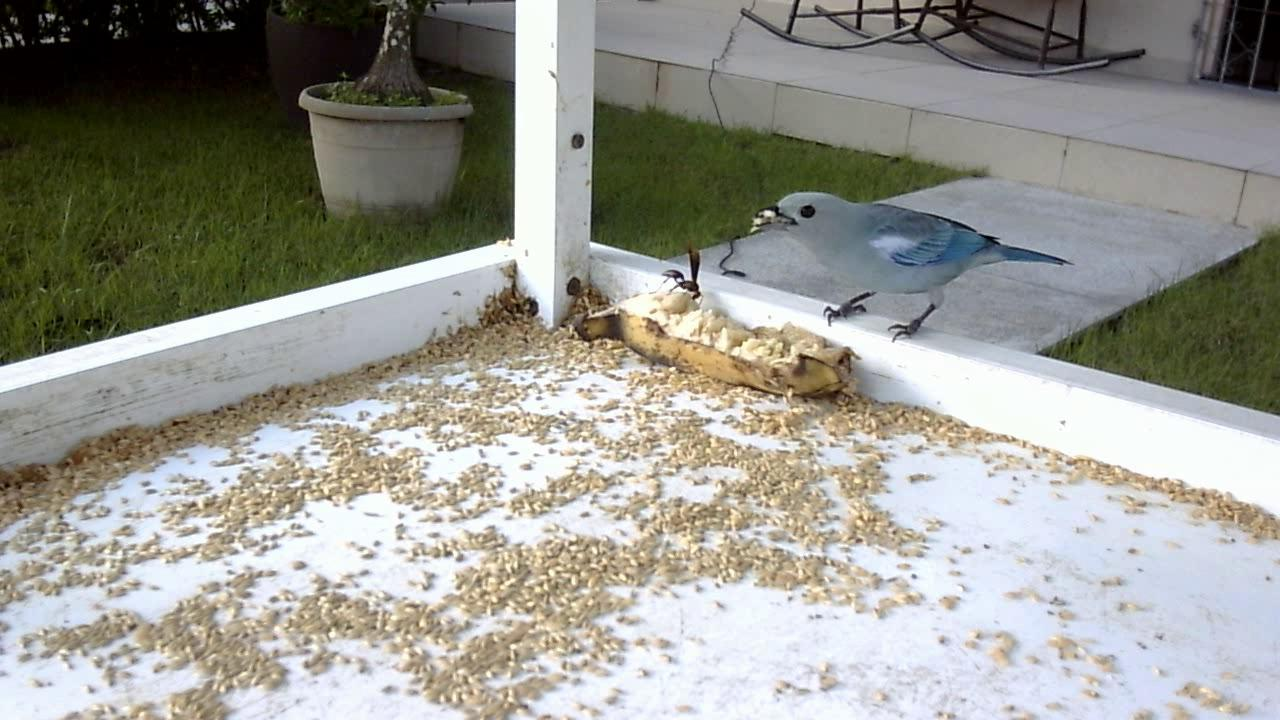sanhaco_da_amazonia: (740, 174, 1079, 357)
